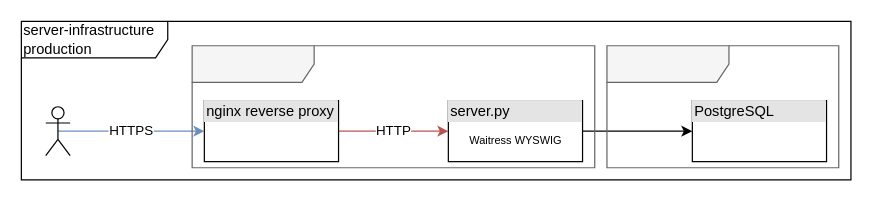
Image size: 872x201. Some labels were removed from this diagram. Each missing label, with the box of its shape:
docker-container db: (606, 45, 839, 168)
docker-container web: (191, 45, 595, 168)
